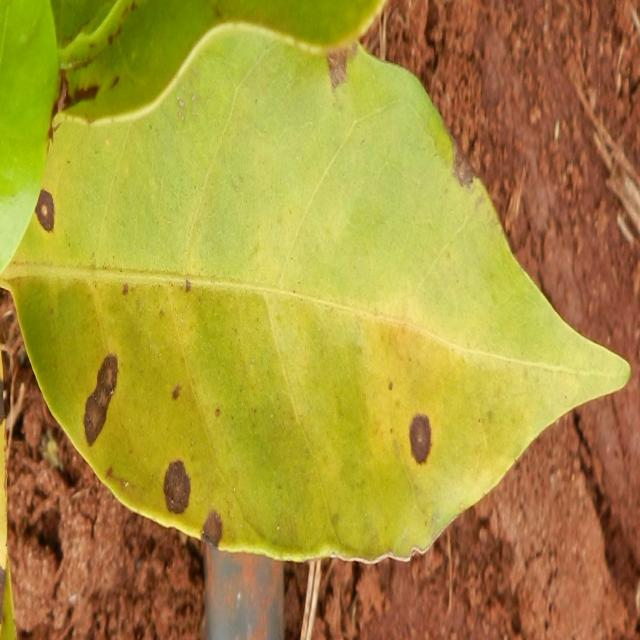Enfermedad-Mancha-de-hierro: (3, 26, 631, 565)
